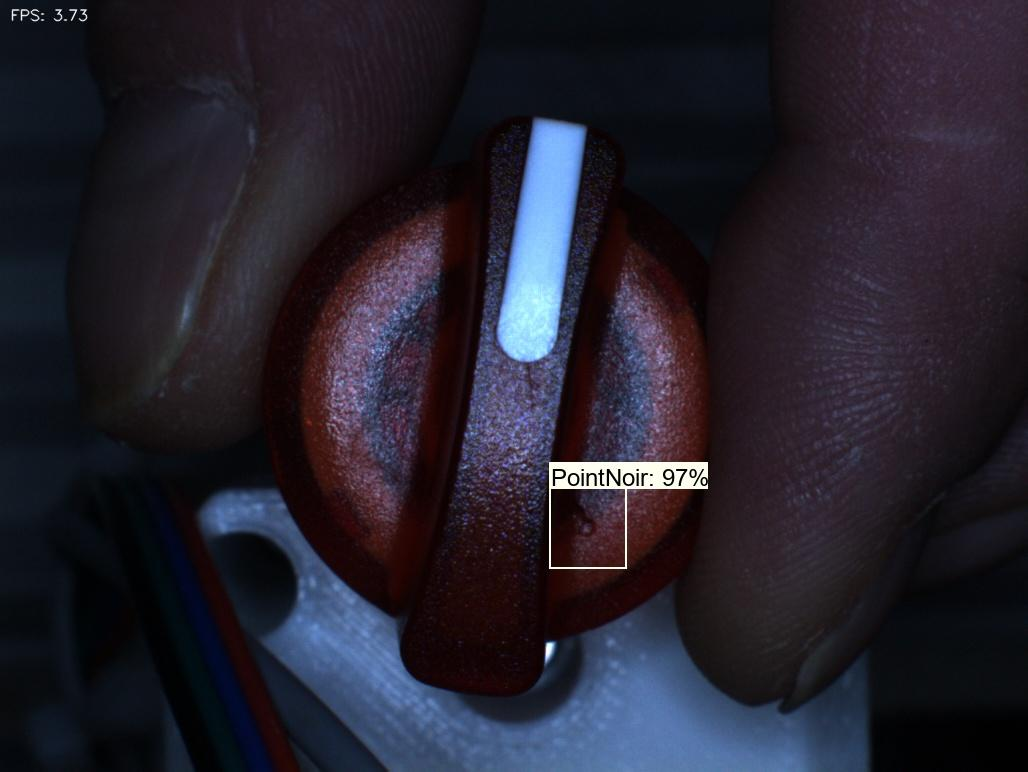Choc: (554, 491, 621, 563)
